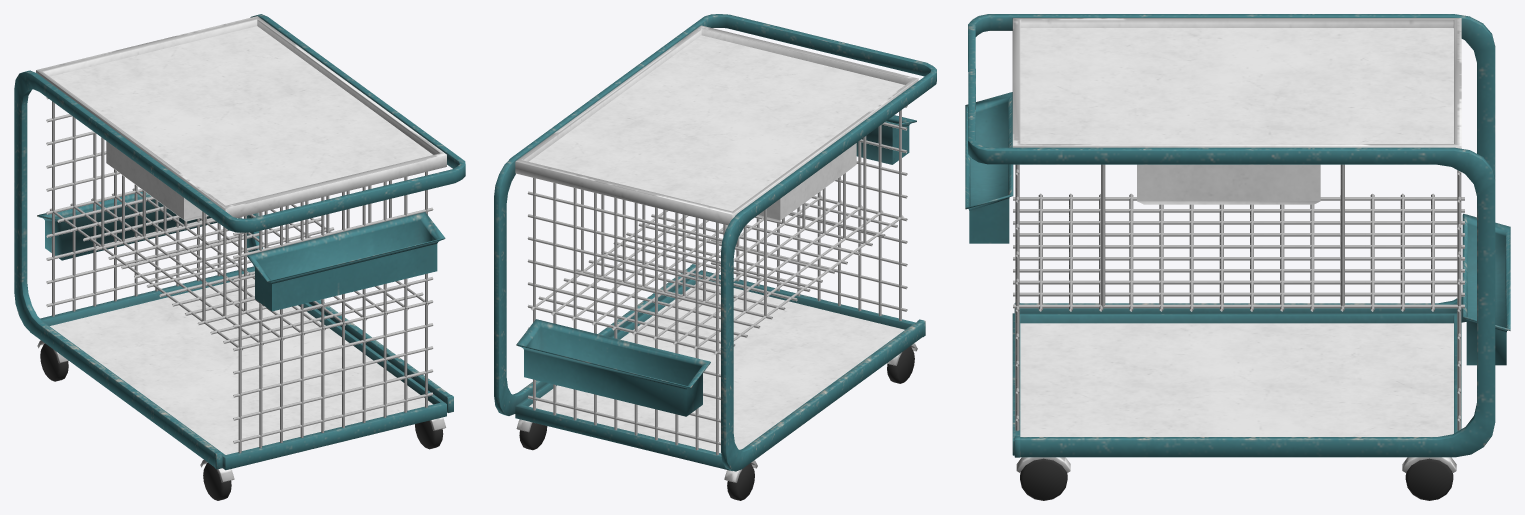
The model's file is tableSmall2.fbx.
The picture shows the model from 3 angles, left to right: view 1: azimuth 30°, elevation 25°; view 2: azimuth 150°, elevation 25°; view 3: azimuth 270°, elevation 25°; orthographic projection. The views are drawn at different scales.
Visible parts, largest first — view 1: tableSmall2; view 2: tableSmall2; view 3: tableSmall2.
Part boxes in pixels (x1,y1,x2,y2): tableSmall2: (14, 14, 465, 500); tableSmall2: (494, 14, 936, 500); tableSmall2: (965, 14, 1510, 500).
Bounding box in the file's own units: 50.01 × 60.55 × 84.03.
